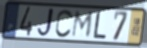4: (19, 6, 33, 38)
7: (112, 10, 130, 42)
C: (54, 8, 75, 39)
J: (36, 7, 56, 39)
L: (92, 11, 108, 41)
M: (70, 10, 95, 39)
